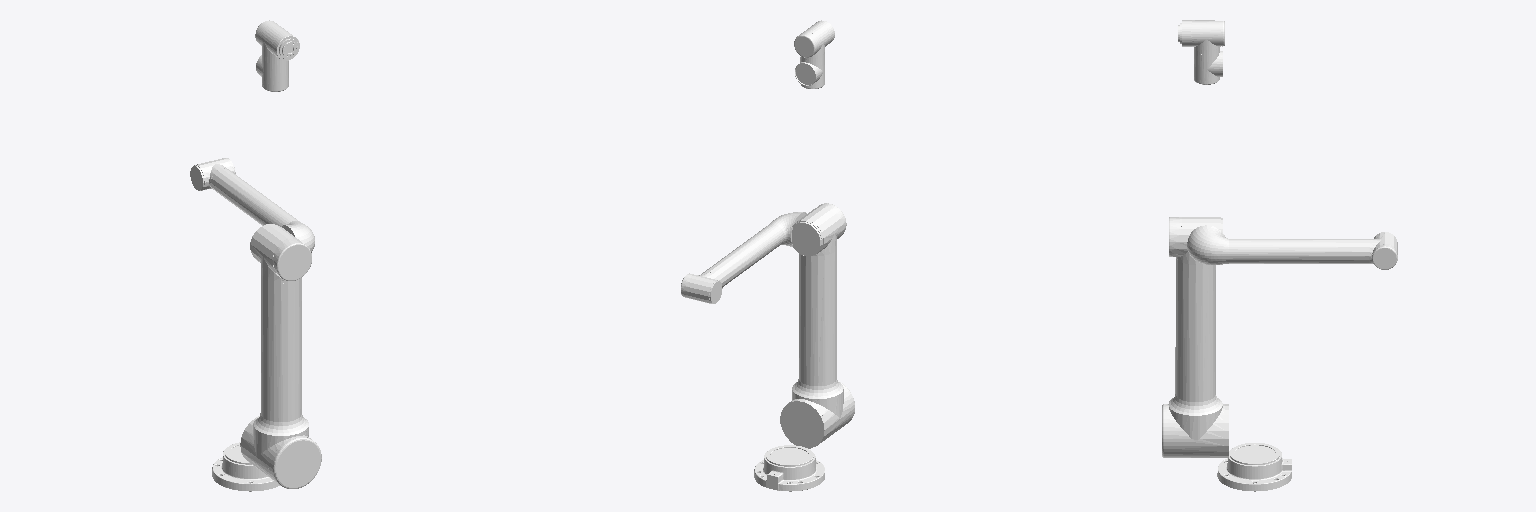
robot.urdf — aubo_iS20_S0:
<?xml version="1.0"?>
<robot  name="aubo_iS20_S0">
  <dh_type type="modified"/>
  <safety_para singularity_consistent="0.02 0.01 10 0.2 0.045 10"/>	
  <link name="base_link">
    <inertial>
      <origin xyz="-0.00001 0.01392 0.03668" rpy="0 0 0" />
      <mass value="3.21884" />
      <inertia ixx="0.01636" ixy="0" ixz="0" iyy="0.01304" iyz="0.00027" izz="0.02491" />
    </inertial>
    <visual>
      <origin xyz="0 0 0" rpy="0 0 0" />
      <geometry>
        <mesh filename="package://aubo_description/meshes/aubo_iS20_S0/collision/link0.STL" />
      </geometry>
      <material name="">
        <color rgba="1 1 1 1" />
      </material>
    </visual>
    <collision>
      <origin xyz="0 0 0" rpy="0 0 0" />
      <geometry>
        <mesh filename="package://aubo_description/meshes/aubo_iS20_S0/collision/link0.STL" />
      </geometry>
    </collision>
  </link>

  <link name="shoulder_Link">
    <inertial>
      <origin xyz="-0.00001 0.00372 -0.03497" rpy="0 0 0" />
      <mass value="15.37779" />
      <inertia ixx="0.08014" ixy="-0.00002" ixz="0.00002" iyy="0.07972" iyz="-0.00249" izz="0.0666" />
    </inertial>
    <visual>
      <origin xyz="0 0 0" rpy="0 0 0" />
      <geometry>
        <mesh filename="package://aubo_description/meshes/aubo_iS20_S0/collision/link1.STL" />
      </geometry>
      <material name="">
        <color rgba="1 1 1 1" />
      </material>
    </visual>
    <collision>
      <origin xyz="0 0 0" rpy="0 0 0" />
      <geometry>
        <mesh filename="package://aubo_description/meshes/aubo_iS20_S0/collision/link1.STL" />
      </geometry>
    </collision>
  </link>

  <joint name="shoulder_joint" type="revolute">
    <origin xyz="0 0 0.1855" rpy="0 0 3.1415926535897932384626433832795" />
    <parent link="base_link" />
    <child link="shoulder_Link" />
    <axis xyz="0 0 1" />
    <limit lower="-6.283185307179586476925286766559" upper="6.283185307179586476925286766559" effort="557" start_stop="802" velocity="2.5953" />
    <property inertia="9.5" damping="0" stiffness="0" offset="0" motor_constant="17.45" ratio="121"/>
  </joint>

  <link name="upperArm_Link">
    <inertial>
      <origin xyz="0.32007 0.0 0.01388" rpy="0 0 0" />
      <mass value="30.81523" />
      <inertia ixx="0.15023" ixy="0.00007" ixz="-0.04352" iyy="4.12564" iyz="-0.00003" izz="4.09815" />
    </inertial>
    <visual>
      <origin xyz="0 0 0" rpy="0 0 0" />
      <geometry>
        <mesh filename="package://aubo_description/meshes/aubo_iS20_S0/collision/link2.STL" />
      </geometry>
      <material name="">
        <color rgba="1 1 1 1" />
      </material>
    </visual>
    <collision>
      <origin xyz="0 0 0" rpy="0 0 0" />
      <geometry>
        <mesh filename="package://aubo_description/meshes/aubo_iS20_S0/collision/link2.STL" />
      </geometry>
    </collision>
  </link>

  <joint name="upperArm_joint" type="revolute">
    <origin xyz="0 0.181 0" rpy="-1.5707963267948966192313216916398 -1.5707963267948966192313216916398 0" />
    <parent link="shoulder_Link" />
    <child link="upperArm_Link" />
    <axis xyz="0 0 1" />
    <limit lower="-6.283185307179586476925286766559" upper="6.283185307179586476925286766559" effort="557" start_stop="802" velocity="2.5953" />
    <property inertia="9.5" damping="0" stiffness="0" offset="0" motor_constant="17.45" ratio="121"/>
  </joint>

  <link name="foreArm_Link">
    <inertial>
      <origin xyz="0.47472 -0.00001 0.11277" rpy="0 0 0" />
      <mass  value="6.2752" />
      <inertia ixx="0.01262" ixy="0.00001" ixz="0.00353" iyy="0.50164" iyz="0" izz="0.50044" />
    </inertial>
    <visual>
      <origin xyz="0 0 0" rpy="0 0 0" />
      <geometry>
        <mesh filename="package://aubo_description/meshes/aubo_iS20_S0/collision/link3.STL" />
      </geometry>
      <material name="">
        <color rgba="1 1 1 1" />
      </material>
    </visual>
    <collision>
      <origin xyz="0 0 0" rpy="0 0 0" />
      <geometry>
        <mesh filename="package://aubo_description/meshes/aubo_iS20_S0/collision/link3.STL" />
      </geometry>
    </collision>
  </link>

  <joint name="foreArm_joint" type="revolute">
    <origin xyz="0.803 0 0" rpy="-3.1415926535897932384626433832795 0 0" />
    <parent link="upperArm_Link" />
    <child link="foreArm_Link" />
    <axis xyz="0 0 1" />
    <limit lower="-6.283185307179586476925286766559" upper="6.283185307179586476925286766559" effort="267" start_stop="433" velocity="3.1067" />
    <property inertia="4.9" damping="0" stiffness="0" offset="0" motor_constant="9.54" ratio="101"/>
  </joint>

  <link name="wrist1_Link">
    <inertial>
      <origin xyz="0.00001 0.0193 -0.00172" rpy="0 0 0" />
      <mass value="2.89061" />
      <inertia ixx="0.00467" ixy="0" ixz="0" iyy="0.00332" iyz="-0.00012" izz="0.00464" />
    </inertial>
    <visual>
      <origin xyz="0 0 0" rpy="0 0 0" />
      <geometry>
        <mesh filename="package://aubo_description/meshes/aubo_iS20_S0/collision/link4.STL" />
      </geometry>
      <material name="">
        <color rgba="1 1 1 1" />
      </material>
    </visual>
    <collision>
      <origin xyz="0 0 0" rpy="0 0 0" />
      <geometry>
        <mesh filename="package://aubo_description/meshes/aubo_iS20_S0/collision/link4.STL" />
      </geometry>
    </collision>
  </link>

  <joint name="wrist1_joint" type="revolute">
    <origin xyz="0.719 0 0" rpy="3.1415926535897932384626433832795 0 1.5707963267948966192313216916398" />
    <parent link="foreArm_Link" />
    <child link="wrist1_Link" />
    <axis xyz="0 0 1" />
    <limit lower="-6.283185307179586476925286766559" upper="6.283185307179586476925286766559" effort="58" start_stop="107" velocity="5.1714" />
    <property inertia="0.96" damping="0" stiffness="0" offset="0" motor_constant="8.58" ratio="81"/>
  </joint>

  <link name="wrist2_Link">
    <inertial>
      <origin xyz="-0.00001 -0.0193 -0.00172" rpy="0 0 0" />
      <mass value="2.89061" />
      <inertia ixx="0.00467" ixy="0" ixz="0" iyy="0.00332" iyz="0.00012" izz="0.00464" />
    </inertial>
    <visual>
      <origin xyz="0 0 0" rpy="0 0 0" />
      <geometry>
        <mesh filename="package://aubo_description/meshes/aubo_iS20_S0/collision/link5.STL" />
      </geometry>
      <material name="">
        <color rgba="1 1 1 1" />
      </material>
    </visual>
    <collision>
      <origin xyz="0 0 0" rpy="0 0 0" />
      <geometry>
        <mesh filename="package://aubo_description/meshes/aubo_iS20_S0/collision/link5.STL" />
      </geometry>
    </collision>
  </link>

  <joint name="wrist2_joint" type="revolute">
    <origin xyz="0 0.125 0" rpy="-1.5707963267948966192313216916398 0 0" />
    <parent link="wrist1_Link" />
    <child link="wrist2_Link" />
    <axis xyz="0 0 1" />
    <limit lower="-6.283185307179586476925286766559" upper="6.283185307179586476925286766559" effort="58" start_stop="107" velocity="5.1714" />
    <property inertia="0.96" damping="0" stiffness="0" offset="0" motor_constant="8.58" ratio="81"/>
  </joint>

  <link name="wrist3_Link">
    <inertial>
      <origin xyz="-0.00068 0.0005 -0.01915" rpy="0 0 0" />
      <mass value="0.379" />
      <inertia ixx="0.00029" ixy="0" ixz="0" iyy="0.0003" iyz="0" izz="0.00051" />
    </inertial>
    <visual>
      <origin xyz="0 0 0" rpy="0 0 0" />
      <geometry>
        <mesh filename="package://aubo_description/meshes/aubo_iS20_S0/collision/link6.STL" />
      </geometry>
      <material name="">
        <color rgba="1 1 1 1" />
      </material>
    </visual>
    <collision>
      <origin xyz="0 0 0" rpy="0 0 0" />
      <geometry>
        <mesh filename="package://aubo_description/meshes/aubo_iS20_S0/collision/link6.STL" />
      </geometry>
    </collision>
  </link>

  <joint name="wrist3_joint" type="revolute">
    <origin xyz="0 -0.1083 0" rpy="1.5707963267948966192313216916398 0 1.7907E-15" />
    <parent link="wrist2_Link" />
    <child link="wrist3_Link" />
    <axis xyz="0 0 1" />
    <limit lower="-6.283185307179586476925286766559" upper="6.283185307179586476925286766559" effort="58" start_stop="107" velocity="5.1714" />
    <property inertia="0.96" damping="0" stiffness="0" offset="0" motor_constant="8.58" ratio="81"/>
  </joint>

  <link name="world" />

  <joint name="world_joint" type="fixed">
    <parent link="world" />
    <child link = "base_link" />
    <origin xyz="0.0 0.0 0.0" rpy="0.0 0.0 0.0" />
  </joint>
</robot>

--- Facts derived from the render (not from the file) ---
Views: 3 orthographic renders of the robot side by side, from view 1: azimuth 30°, elevation 25°; view 2: azimuth 150°, elevation 25°; view 3: azimuth 270°, elevation 25°.
Model aubo_iS20_S0 with 8 links and 7 joints (6 revolute, 1 fixed), rooted at world, posed every joint at zero.
Visible links, largest first — view 1: upperArm_Link, foreArm_Link, base_link, wrist1_Link, wrist2_Link, wrist3_Link; view 2: upperArm_Link, foreArm_Link, base_link, wrist2_Link, wrist1_Link; view 3: upperArm_Link, foreArm_Link, base_link, wrist2_Link, wrist1_Link.
Link boxes in pixels (box(x1,y1,x2,y2)): upperArm_Link: box(240, 224, 321, 488); foreArm_Link: box(190, 158, 314, 252); base_link: box(212, 442, 280, 491); wrist1_Link: box(256, 55, 288, 91); wrist2_Link: box(255, 20, 288, 58); wrist3_Link: box(272, 32, 299, 60); upperArm_Link: box(780, 203, 854, 448); foreArm_Link: box(681, 212, 806, 303); base_link: box(754, 445, 824, 491); wrist2_Link: box(794, 24, 830, 58); wrist1_Link: box(795, 56, 824, 88); upperArm_Link: box(1162, 217, 1228, 457); foreArm_Link: box(1187, 225, 1397, 269); base_link: box(1217, 443, 1291, 491); wrist2_Link: box(1191, 20, 1224, 52); wrist1_Link: box(1194, 49, 1222, 84).
Size in the robot's own frame: 0.3332 by 0.8862 by 1.88 metres.
6 mesh visuals loaded from 7 distinct referenced files (6 binary STL); not drawn: 1 (reference not matched to a file when rendering).
